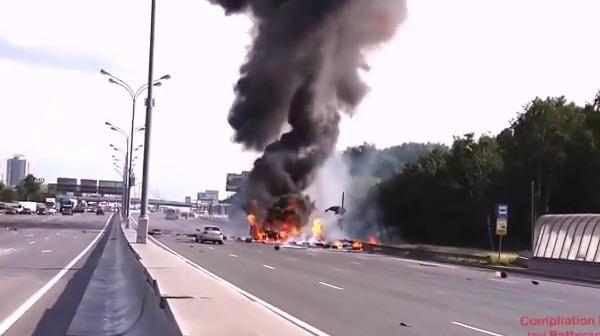fire: (242, 208, 325, 249), (332, 233, 379, 250)
